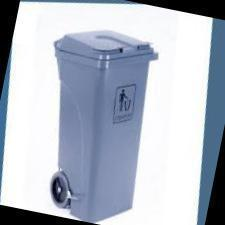Bote de Basura: (21, 19, 167, 225)
